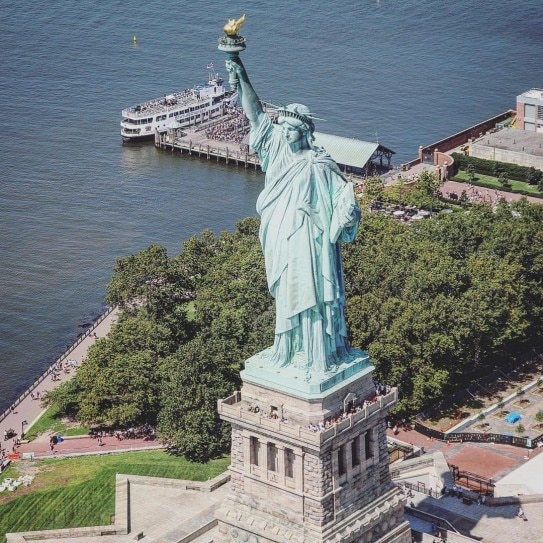person-like: (214, 19, 366, 388)
